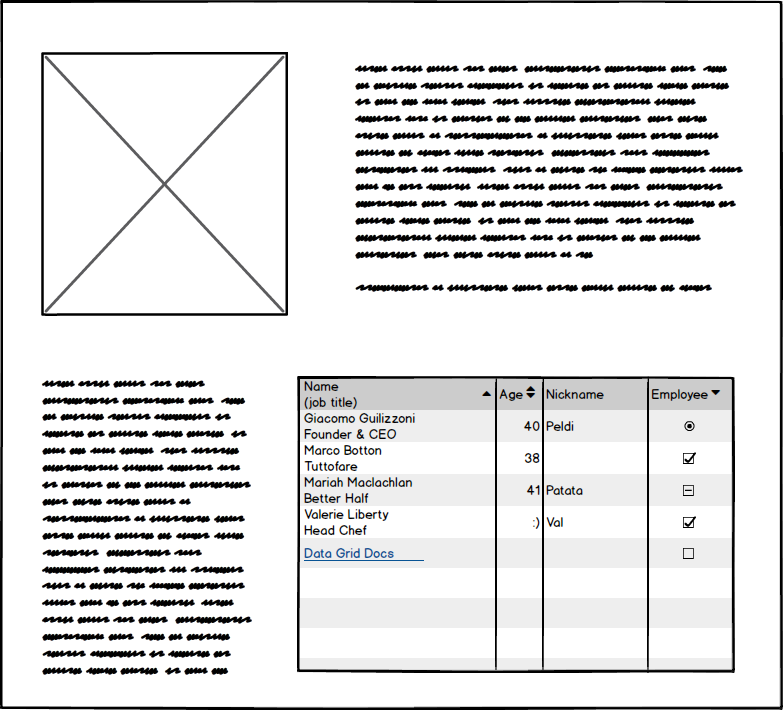image: (38, 43, 295, 322)
p: (346, 55, 758, 299), (33, 375, 262, 683)
table: (295, 370, 740, 681)
